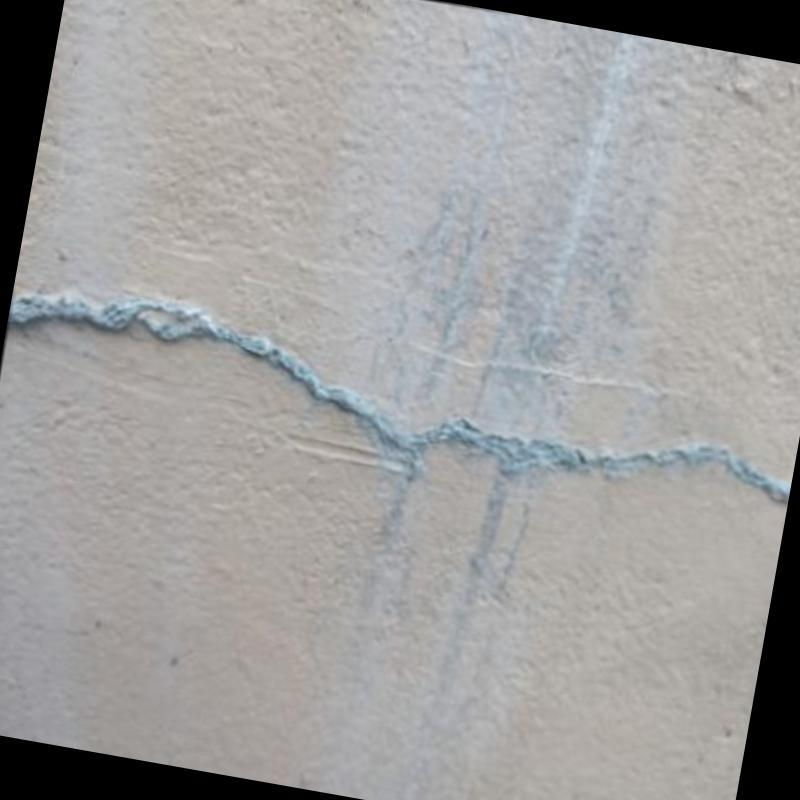crack: (5, 284, 793, 510)
